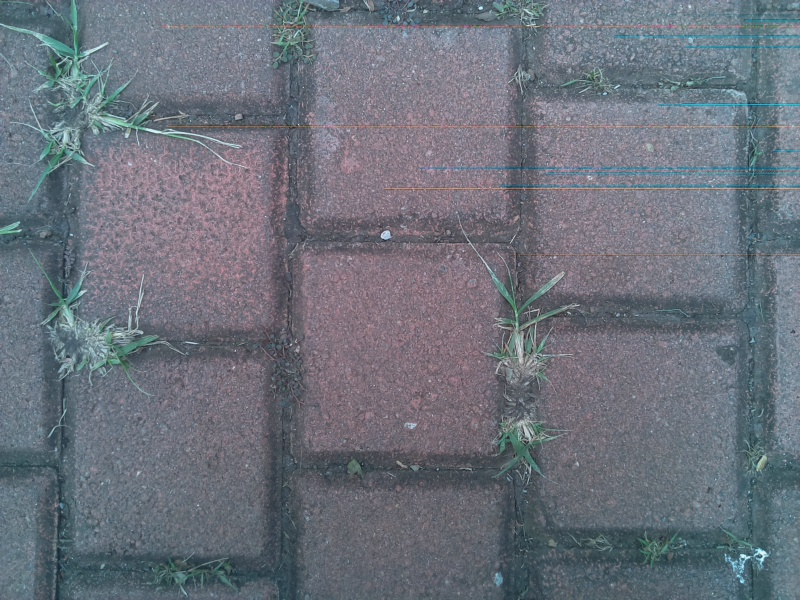Weed: (40, 280, 152, 379), (482, 261, 561, 390), (487, 393, 560, 480), (82, 92, 180, 152), (30, 21, 89, 112), (150, 552, 244, 600), (26, 118, 91, 182), (264, 11, 320, 70), (629, 527, 685, 574), (715, 528, 767, 570), (505, 61, 548, 107), (573, 63, 622, 102), (730, 437, 770, 481), (495, 2, 551, 32), (666, 70, 714, 99), (739, 137, 770, 177)
